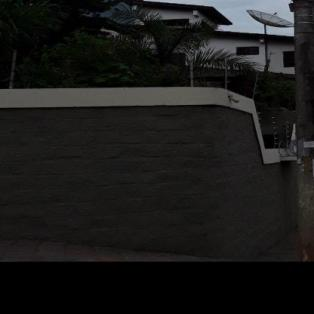Poste: (275, 0, 313, 261)
